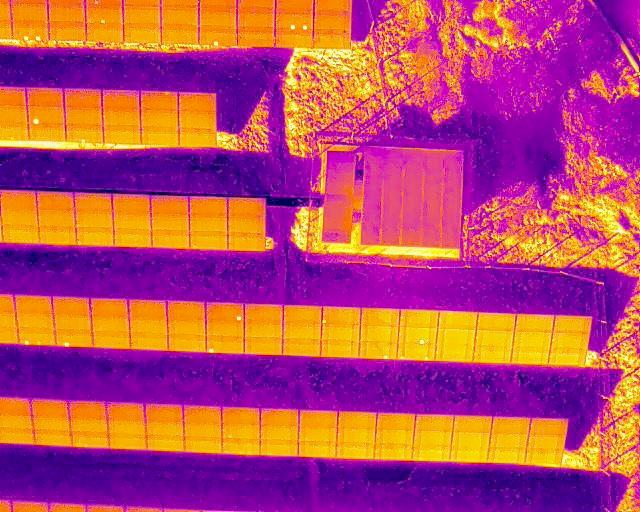Cell: (206, 302, 244, 322), (199, 25, 236, 44), (85, 5, 122, 23), (398, 327, 437, 344), (55, 329, 93, 346), (359, 342, 397, 359), (66, 125, 103, 142), (28, 107, 64, 124), (323, 308, 361, 324), (207, 337, 244, 353)
Cell-Multi: (275, 8, 312, 29), (12, 21, 49, 40), (17, 327, 55, 345), (397, 344, 436, 360)
No-Anomaly: (168, 300, 205, 322), (129, 299, 167, 319), (244, 305, 283, 324), (91, 297, 128, 317), (52, 298, 90, 317), (161, 24, 199, 43), (283, 306, 321, 325), (140, 91, 178, 110), (515, 314, 555, 332), (237, 8, 274, 27), (314, 9, 351, 28), (438, 311, 477, 329), (321, 339, 360, 357), (103, 126, 141, 144), (200, 6, 236, 25), (477, 313, 515, 331), (76, 227, 114, 245), (228, 198, 266, 216), (227, 232, 265, 250), (400, 309, 438, 327), (237, 28, 273, 47), (10, 3, 48, 21), (69, 400, 107, 418), (161, 6, 198, 24), (123, 6, 160, 24), (179, 128, 216, 146), (102, 90, 139, 108), (190, 231, 227, 249), (152, 230, 189, 248), (362, 308, 399, 326), (48, 22, 85, 40), (313, 30, 350, 48), (222, 407, 259, 425), (553, 315, 592, 332), (321, 324, 360, 341), (189, 214, 228, 231), (475, 331, 514, 348), (282, 339, 321, 356), (3, 225, 39, 243), (0, 191, 36, 209), (27, 88, 63, 106), (37, 192, 75, 209), (141, 127, 179, 144), (64, 89, 102, 106), (54, 314, 92, 331), (92, 331, 130, 348), (65, 107, 103, 124), (140, 110, 178, 127), (178, 93, 216, 110), (71, 431, 109, 448), (106, 402, 144, 419), (376, 413, 414, 430), (48, 4, 86, 21), (260, 409, 298, 426), (338, 411, 376, 428), (512, 331, 552, 347), (114, 229, 151, 246), (39, 227, 76, 244), (75, 193, 112, 210), (123, 24, 160, 41), (31, 400, 68, 417), (275, 30, 312, 47), (145, 404, 182, 421), (130, 333, 167, 350), (413, 445, 450, 462), (435, 344, 474, 360), (487, 447, 526, 463), (453, 416, 492, 432), (529, 418, 568, 434), (415, 414, 454, 430), (492, 417, 531, 433), (103, 109, 139, 126), (549, 348, 585, 365), (283, 324, 321, 340), (151, 196, 189, 212), (189, 197, 227, 213), (112, 195, 150, 211), (375, 444, 413, 460), (299, 441, 337, 457), (299, 426, 337, 442), (336, 443, 374, 459), (299, 410, 337, 426), (436, 329, 476, 344), (413, 430, 453, 445), (76, 211, 113, 227), (113, 212, 150, 228), (151, 213, 188, 229), (38, 210, 75, 226), (15, 297, 52, 313), (17, 313, 54, 329), (168, 336, 205, 352), (245, 338, 282, 354), (183, 406, 220, 422), (222, 439, 259, 455), (451, 446, 488, 462), (179, 111, 216, 127), (228, 218, 267, 233), (551, 332, 590, 347), (260, 425, 299, 440), (376, 430, 415, 445), (29, 124, 65, 140), (1, 209, 37, 225), (86, 24, 122, 40), (360, 326, 398, 341), (511, 348, 549, 363), (69, 417, 107, 432), (222, 424, 260, 439), (474, 347, 512, 362), (107, 419, 145, 434), (260, 441, 298, 456), (92, 317, 129, 332), (206, 323, 243, 338), (147, 435, 184, 450), (146, 421, 183, 436), (109, 434, 146, 449), (184, 437, 221, 452), (337, 428, 376, 442), (490, 434, 529, 448), (130, 320, 166, 335), (168, 322, 206, 336), (452, 432, 490, 446), (527, 434, 565, 448), (184, 422, 222, 436), (245, 323, 282, 337), (526, 449, 562, 463), (33, 416, 69, 430), (34, 430, 69, 444), (272, 175, 273, 179)
